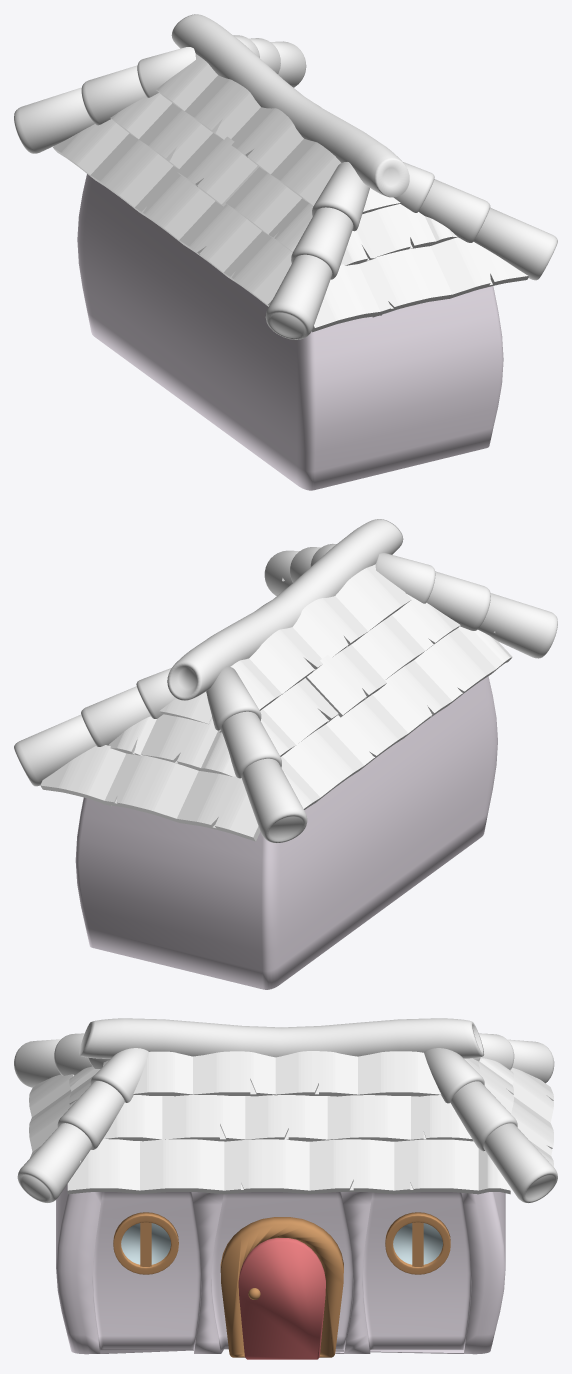
File: Haus.002-Weiß.fbx
3 views of the same model, one above another, from view 1: azimuth 30°, elevation 25°; view 2: azimuth 150°, elevation 25°; view 3: azimuth 270°, elevation 25° (orthographic). The views are drawn at different scales.
Parts seen in each view (by area): view 1: Haus.004; view 2: Haus.004; view 3: Haus.004.
Part boxes in pixels (x1,y1,x2,y2): Haus.004: [14, 14, 557, 490]; Haus.004: [14, 519, 557, 989]; Haus.004: [14, 1018, 557, 1359].
Size of the model in its own units: 277 by 279 by 471.
